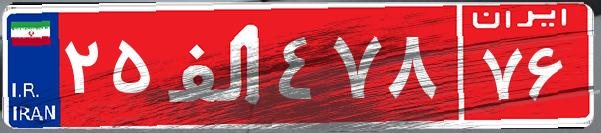2: (57, 26, 110, 107)
4: (273, 28, 330, 110)
5: (110, 28, 158, 105)
6: (525, 38, 570, 115)
7: (330, 28, 385, 110), (475, 38, 525, 113)
8: (385, 28, 445, 110)
الف: (158, 15, 273, 115)
